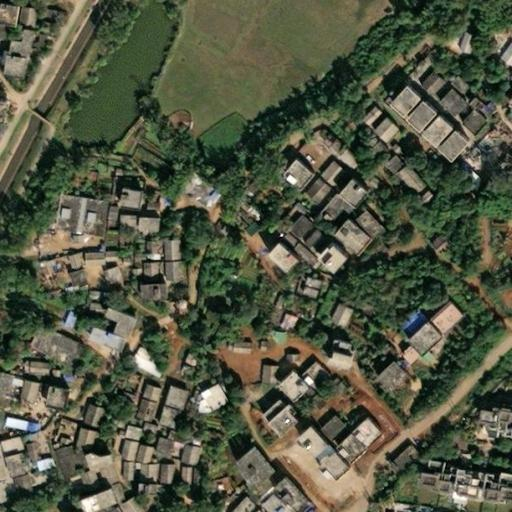building: (410, 453, 510, 492), (41, 192, 100, 235), (21, 326, 76, 369), (226, 439, 265, 482), (173, 170, 213, 210), (324, 212, 363, 251), (265, 470, 300, 507), (469, 396, 512, 426), (399, 313, 434, 349), (385, 438, 419, 471), (312, 193, 344, 226), (48, 448, 81, 480), (73, 480, 112, 507), (79, 320, 117, 347), (388, 164, 419, 196), (259, 232, 290, 263), (274, 153, 305, 184), (380, 76, 411, 107), (367, 355, 398, 386), (327, 425, 358, 456), (428, 122, 458, 153), (422, 299, 452, 330), (413, 107, 443, 137), (289, 415, 319, 445), (347, 205, 376, 236), (122, 352, 155, 379), (397, 92, 426, 122), (344, 410, 373, 440), (312, 444, 341, 474), (270, 364, 299, 394), (311, 159, 340, 188), (331, 169, 360, 198), (430, 87, 459, 116), (259, 399, 288, 428), (311, 232, 339, 260), (193, 382, 220, 411), (252, 489, 284, 512), (296, 177, 323, 204), (364, 115, 391, 142), (125, 397, 151, 425), (218, 202, 244, 229), (229, 197, 255, 224), (411, 70, 437, 96), (452, 108, 478, 134), (312, 412, 338, 438), (211, 470, 237, 496), (278, 214, 303, 240), (155, 384, 179, 411), (426, 227, 451, 252), (319, 333, 345, 357), (322, 303, 346, 327), (293, 359, 317, 383), (36, 380, 60, 403), (295, 226, 318, 250), (70, 468, 94, 491), (111, 180, 133, 205), (149, 406, 171, 431), (492, 41, 512, 67), (66, 426, 88, 449), (105, 304, 126, 328), (220, 494, 248, 512), (352, 106, 374, 128), (253, 394, 276, 415), (172, 444, 193, 467), (132, 277, 156, 297), (75, 403, 95, 427), (0, 48, 19, 73), (11, 378, 30, 402), (131, 466, 149, 491), (395, 309, 416, 330), (0, 419, 31, 433), (0, 451, 17, 476), (78, 447, 103, 464), (330, 149, 351, 169), (112, 439, 132, 460), (133, 384, 155, 403), (3, 471, 23, 491), (392, 342, 412, 362), (146, 440, 166, 460), (112, 496, 137, 512), (156, 258, 172, 282), (10, 4, 28, 25), (94, 265, 116, 282), (134, 261, 156, 278), (88, 464, 106, 484), (127, 444, 145, 464), (451, 32, 466, 55), (54, 312, 71, 332), (155, 238, 172, 258), (60, 269, 78, 287), (376, 155, 394, 173), (470, 103, 488, 121), (442, 74, 460, 92), (151, 465, 167, 485), (130, 212, 152, 226), (19, 362, 41, 376), (138, 241, 153, 261), (219, 340, 242, 353), (284, 200, 301, 217), (272, 314, 288, 332), (58, 253, 73, 272), (76, 253, 96, 267), (96, 297, 113, 313), (296, 275, 314, 289), (501, 80, 512, 102), (36, 259, 51, 275), (96, 243, 108, 263), (117, 425, 133, 440), (99, 205, 109, 228), (411, 191, 426, 206), (497, 26, 512, 41), (326, 381, 341, 396), (360, 140, 375, 155), (0, 437, 14, 453), (182, 469, 192, 491), (172, 468, 183, 488), (46, 445, 64, 457), (160, 433, 178, 445), (114, 463, 126, 481), (294, 285, 310, 298), (266, 295, 277, 313), (162, 444, 173, 462), (303, 393, 317, 407), (356, 136, 370, 149), (360, 178, 373, 191), (253, 366, 262, 384), (264, 332, 277, 344), (261, 366, 269, 385), (415, 349, 427, 361), (182, 438, 195, 449), (502, 67, 512, 81), (138, 204, 155, 212), (57, 504, 74, 512), (297, 387, 308, 399), (460, 95, 471, 106), (496, 116, 507, 127), (382, 144, 393, 154), (0, 476, 6, 494), (63, 235, 75, 243), (123, 269, 135, 277), (125, 255, 138, 262), (252, 340, 258, 353), (125, 261, 134, 269), (142, 195, 149, 204), (15, 363, 20, 375), (149, 195, 155, 204), (155, 199, 161, 207), (125, 472, 129, 481), (509, 209, 512, 215)
